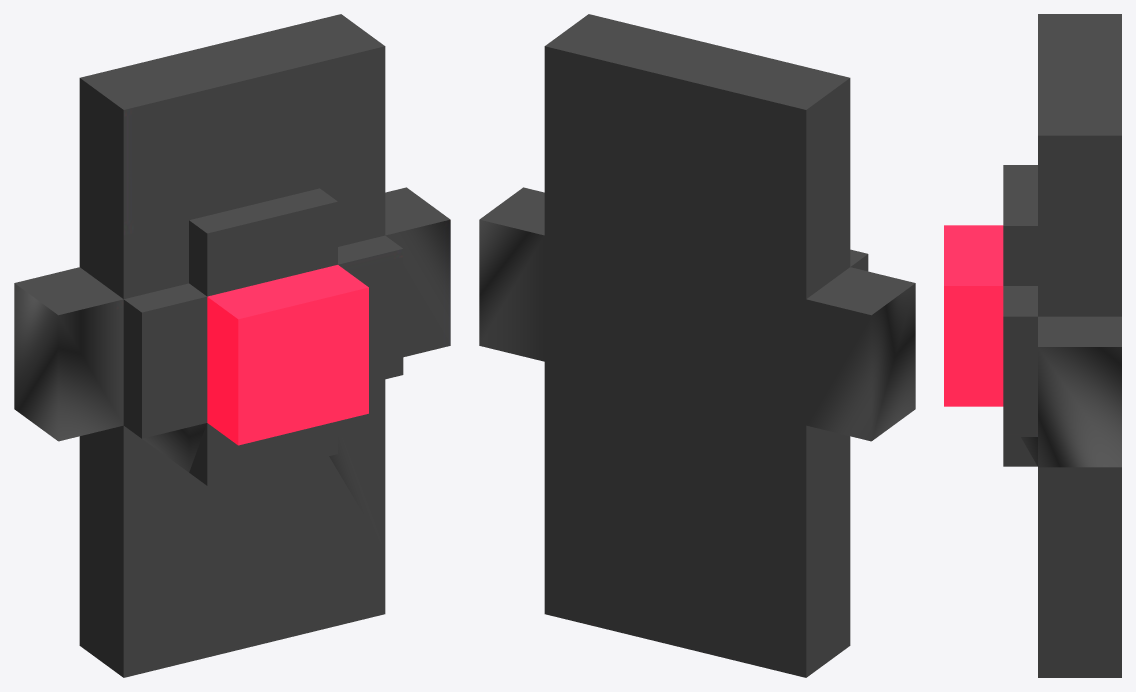
Rendered from cyborg_optics.glb.
The picture shows the model from 3 angles, left to right: view 1: azimuth 30°, elevation 25°; view 2: azimuth 150°, elevation 25°; view 3: azimuth 270°, elevation 25°; orthographic projection. The views are drawn at different scales.
Visible parts, largest first — view 1: cyborg_eye.001; view 2: cyborg_eye.001; view 3: cyborg_eye.001.
Part boxes in pixels (x1=…): cyborg_eye.001: x1=14, y1=14, x2=450, y2=677; cyborg_eye.001: x1=479, y1=14, x2=915, y2=677; cyborg_eye.001: x1=944, y1=14, x2=1121, y2=677.
Bounding box in the file's own units: 0.7294 × 1.01 × 0.3.
